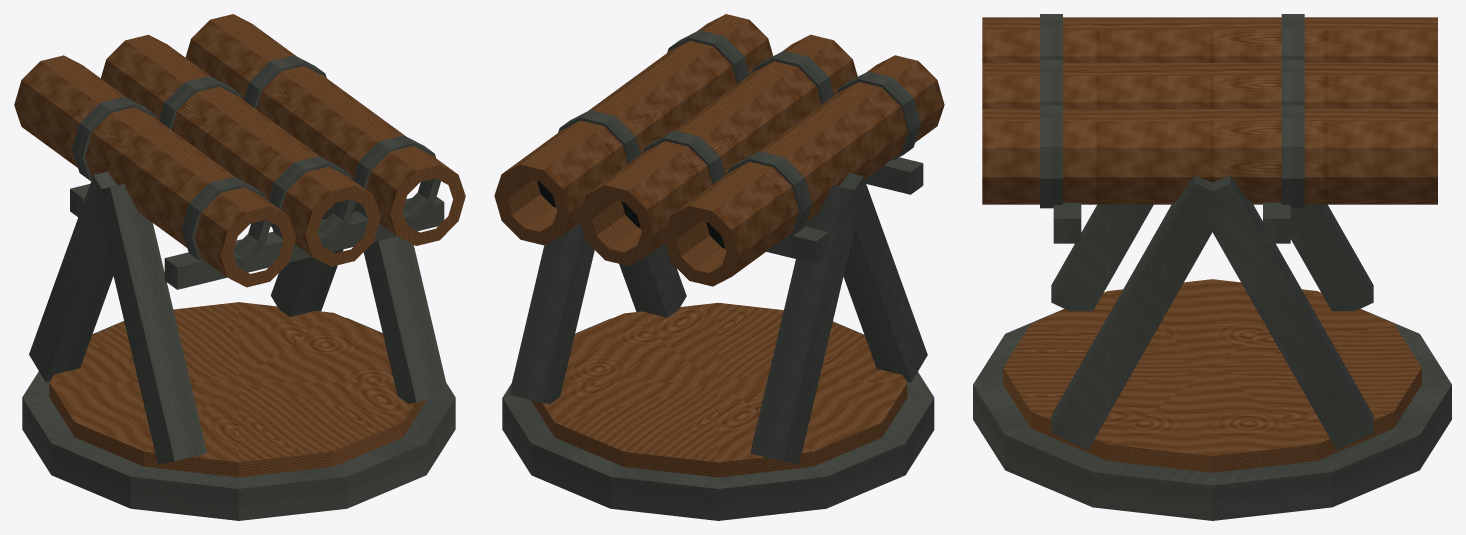
Rendered from rocket.glb.
3 renders of one model, left to right at view 1: azimuth 30°, elevation 25°; view 2: azimuth 150°, elevation 25°; view 3: azimuth 270°, elevation 25°, orthographic. The views are drawn at different scales.
Visible parts, largest first — view 1: barrel, frame, turntable; view 2: barrel, frame, turntable; view 3: barrel, frame, turntable.
Boxes of the visible parts, x1,y1,x2,y2 form: barrel: [14, 14, 465, 289]; frame: [22, 302, 455, 520]; turntable: [29, 171, 448, 464]; barrel: [494, 14, 944, 286]; frame: [502, 302, 934, 520]; turntable: [509, 172, 927, 464]; barrel: [982, 14, 1437, 243]; frame: [973, 279, 1451, 520]; turntable: [1051, 174, 1373, 449].
Bounding box in the file's own units: 2.08 × 1.69 × 2.08.
1 material, 1 textured.
